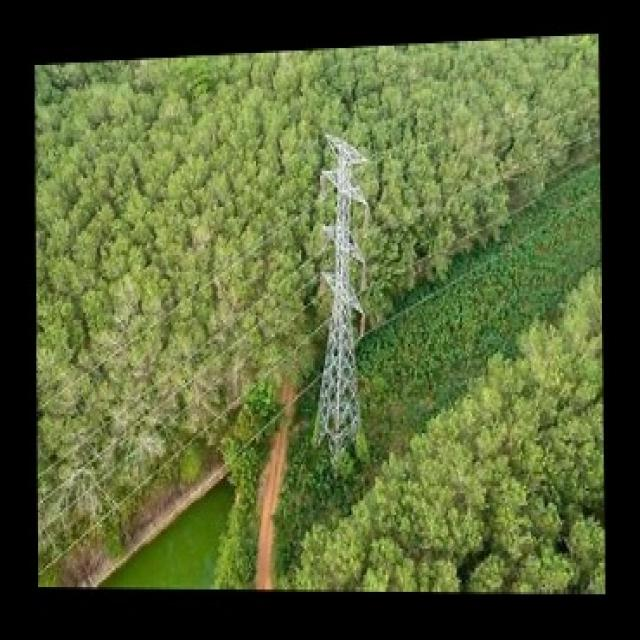utility poles: (312, 118, 378, 474)
